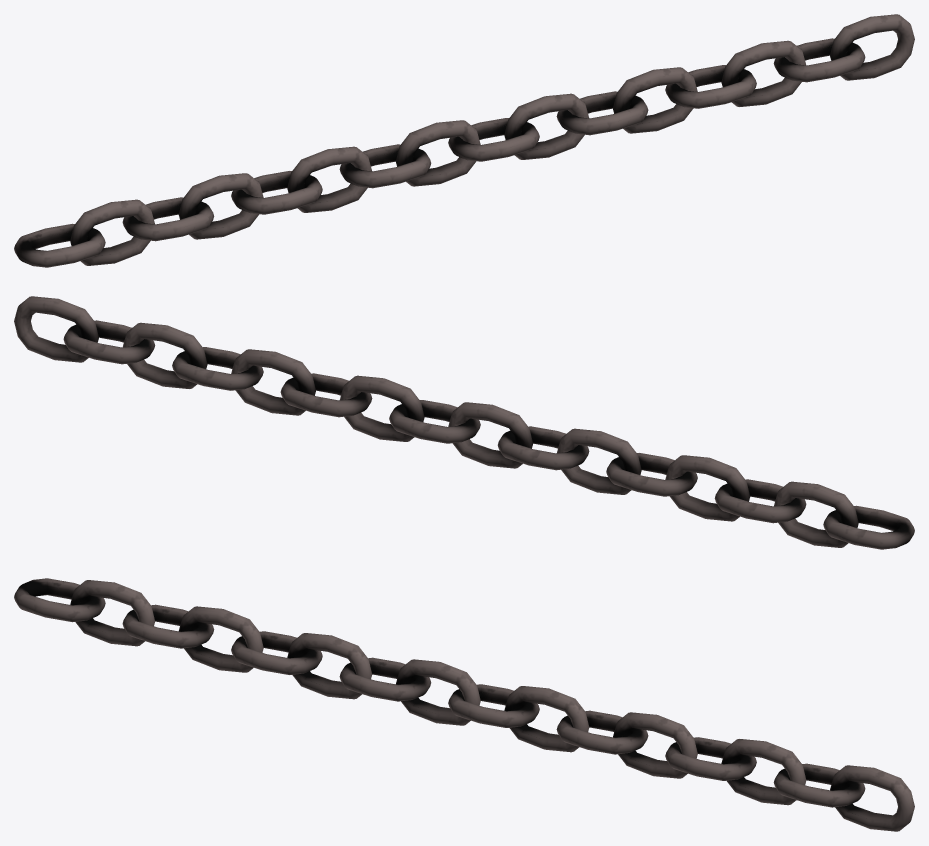
The model's file is Chain.fbx.
3 views of the same model, one above another, from view 1: azimuth 30°, elevation 25°; view 2: azimuth 150°, elevation 25°; view 3: azimuth 330°, elevation 25° (orthographic).
Visible parts, largest first — view 1: Torus.007; view 2: Torus.007; view 3: Torus.007.
Part boxes in pixels (bbox=[...]): Torus.007: bbox=[14, 14, 914, 267]; Torus.007: bbox=[14, 296, 914, 549]; Torus.007: bbox=[14, 578, 914, 831].
Size of the model in its own units: 1000 by 64.29 by 64.29.
1 material, 1 textured.
